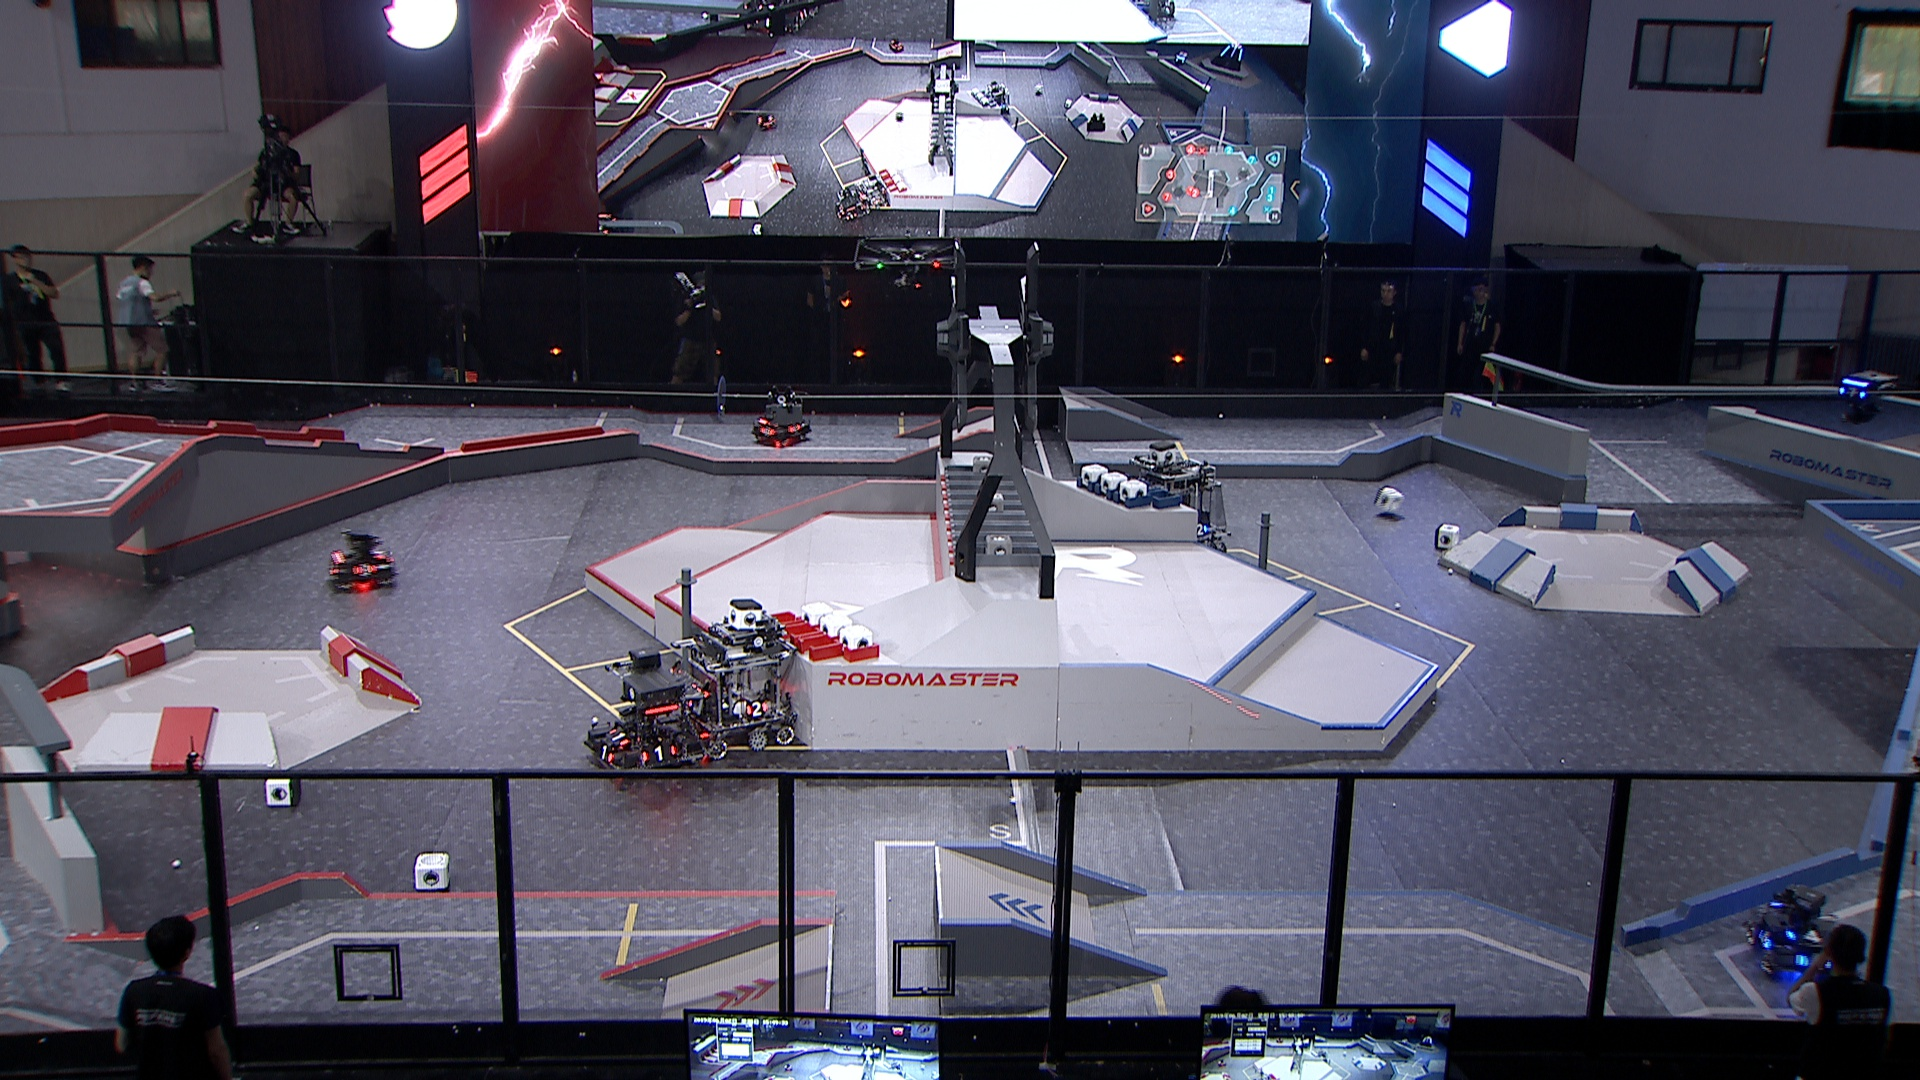armor: (641, 744, 679, 764), (1785, 927, 1826, 945), (742, 699, 769, 719), (349, 562, 377, 579), (608, 727, 632, 746), (595, 744, 617, 764), (1756, 928, 1774, 953), (1836, 386, 1866, 400), (757, 425, 775, 438), (1195, 524, 1211, 538), (789, 425, 803, 434)
car: (665, 612, 798, 764), (582, 646, 707, 789), (1129, 452, 1233, 559), (1741, 884, 1846, 978), (324, 527, 400, 591), (749, 400, 812, 446)
ignore: (835, 183, 873, 222), (978, 78, 1015, 117), (856, 175, 889, 210), (1209, 44, 1247, 73), (595, 211, 618, 235), (754, 109, 775, 133), (1172, 50, 1189, 69)
watcher: (1830, 371, 1894, 425)
